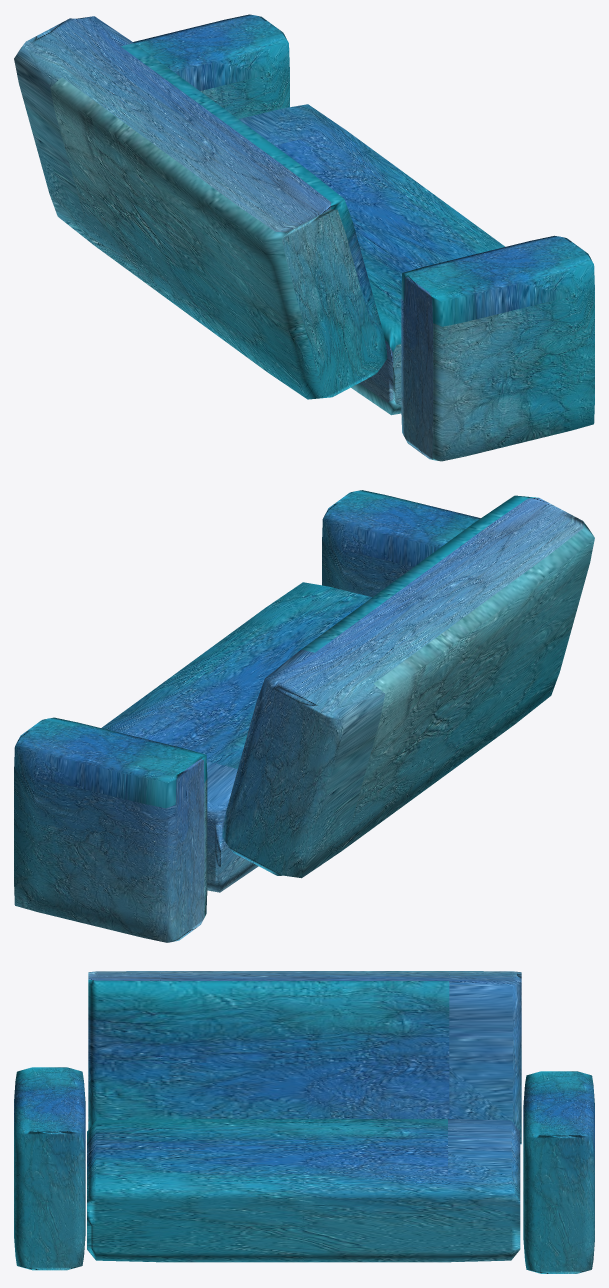
File: sofa2.glb
The picture shows the model from 3 angles, top to bottom: view 1: azimuth 30°, elevation 25°; view 2: azimuth 150°, elevation 25°; view 3: azimuth 270°, elevation 25°; orthographic projection. The views are drawn at different scales.
Parts seen in each view (by area): view 1: Cube.003, Cube.002, Cube, Cube.001; view 2: Cube.003, Cube.001, Cube, Cube.002; view 3: Cube.003, Cube, Cube.002, Cube.001.
Part boxes in pixels (x1,y1,x2,y2): Cube.003: [14, 16, 387, 399]; Cube.002: [401, 235, 594, 461]; Cube: [239, 104, 505, 415]; Cube.001: [133, 14, 289, 119]; Cube.003: [222, 495, 594, 878]; Cube.001: [14, 717, 207, 942]; Cube: [101, 582, 371, 892]; Cube.002: [322, 490, 480, 597]; Cube.003: [88, 971, 521, 1144]; Cube: [87, 1119, 520, 1262]; Cube.002: [14, 1067, 85, 1270]; Cube.001: [523, 1071, 594, 1273].
Bounding box in the file's own units: 3.75 × 2.96 × 7.62.
Materials: 4 (4 with a texture image).
